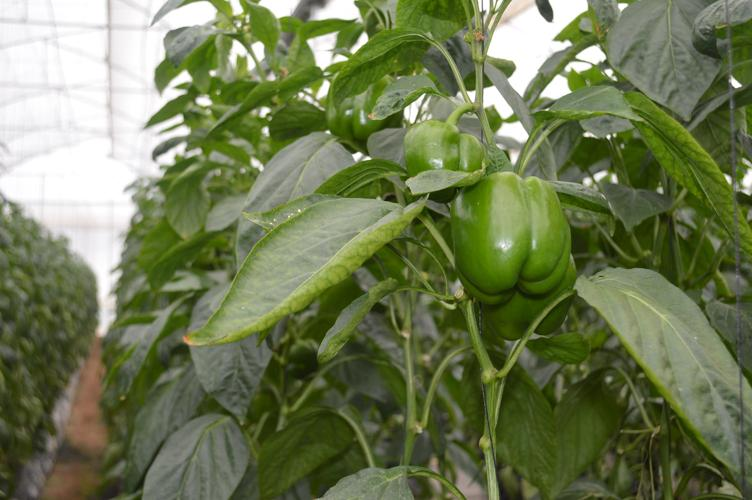BellPepper: (441, 172, 565, 298), (473, 253, 579, 338), (403, 122, 480, 198), (325, 71, 400, 143)
